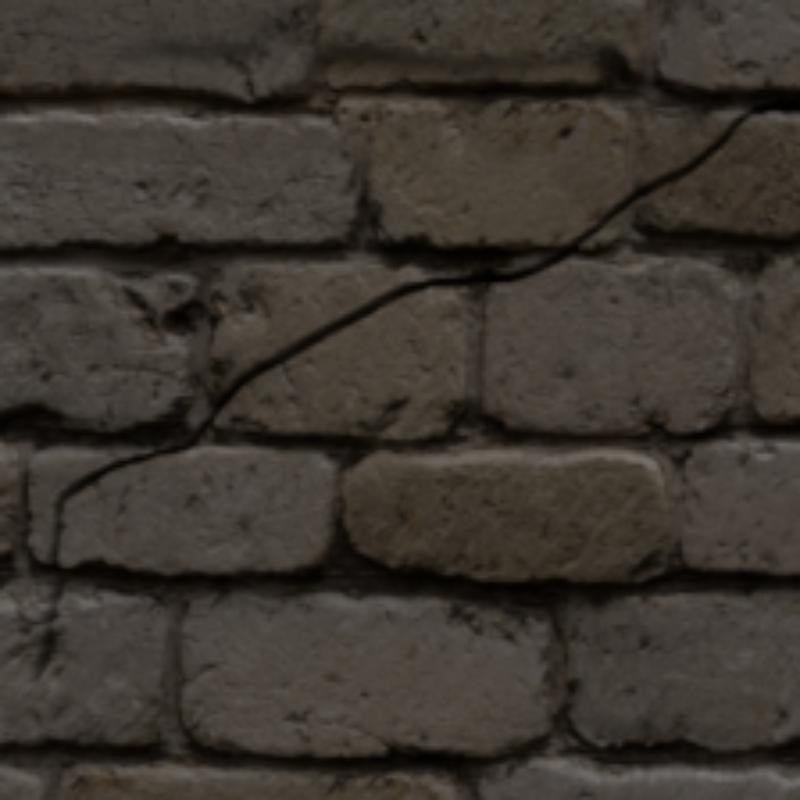pothole: (56, 101, 799, 548), (39, 609, 56, 676)
